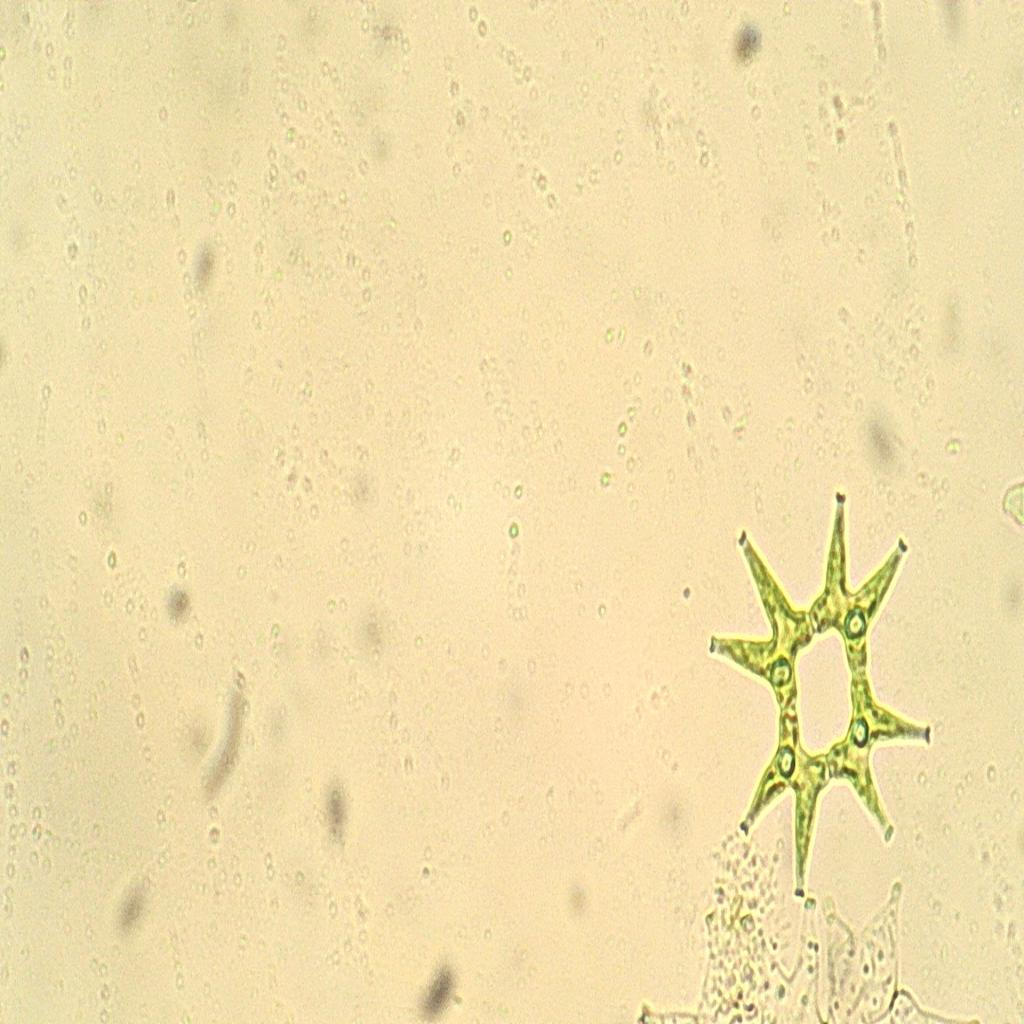Pediastrum_75O: (692, 474, 959, 910)
